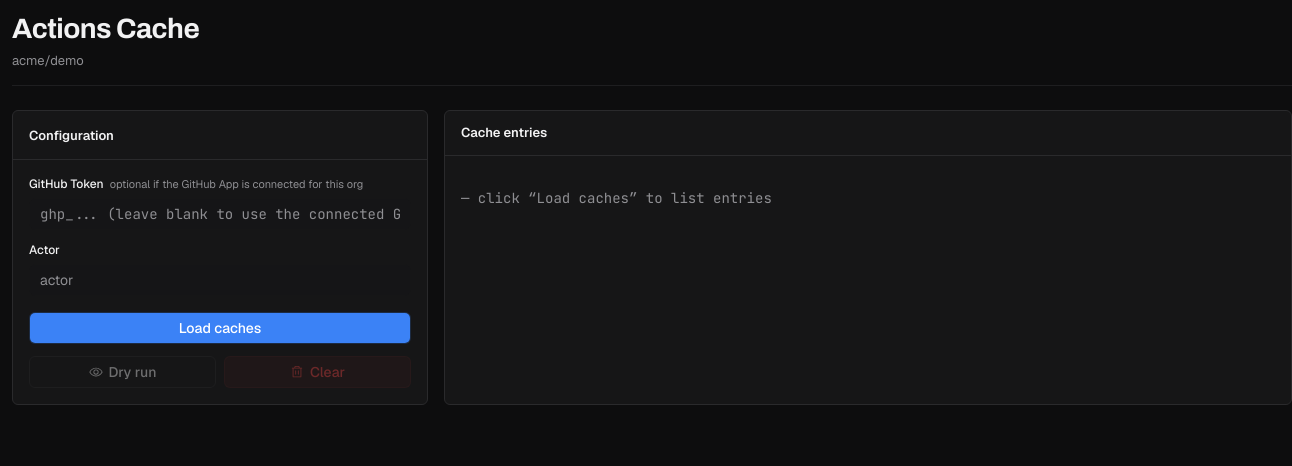
CachePage › disarms the confirm state if the actor is edited before confirming
Step 1. Type "me@example.com" into the field with placeholder "actor" → {"x": 220, "y": 280}, box [29, 264, 411, 296]
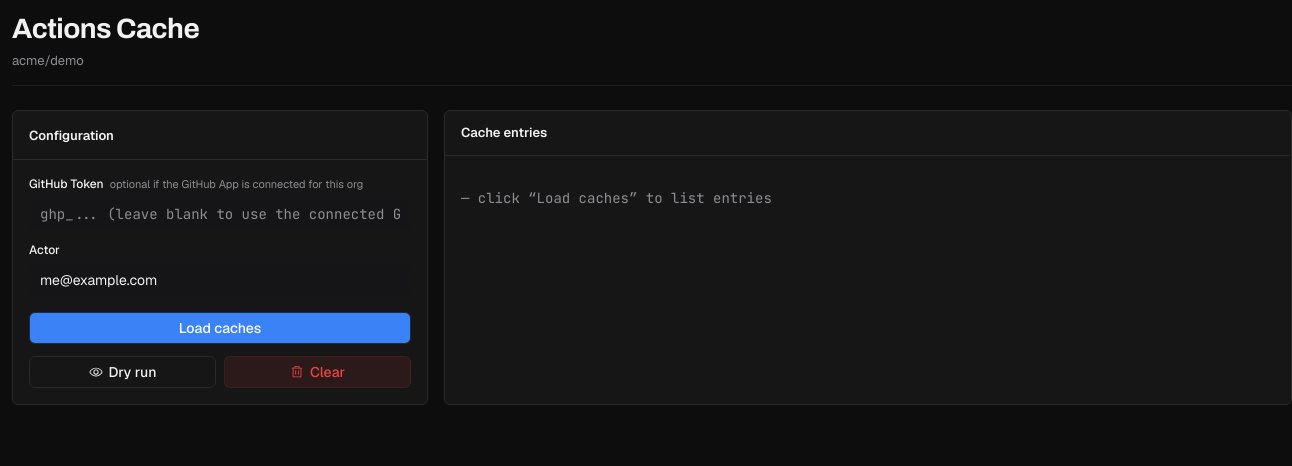
Now the button "Clear" is enabled
Step 2. Click the button "Clear" → {"x": 318, "y": 372}, box [224, 356, 411, 388]
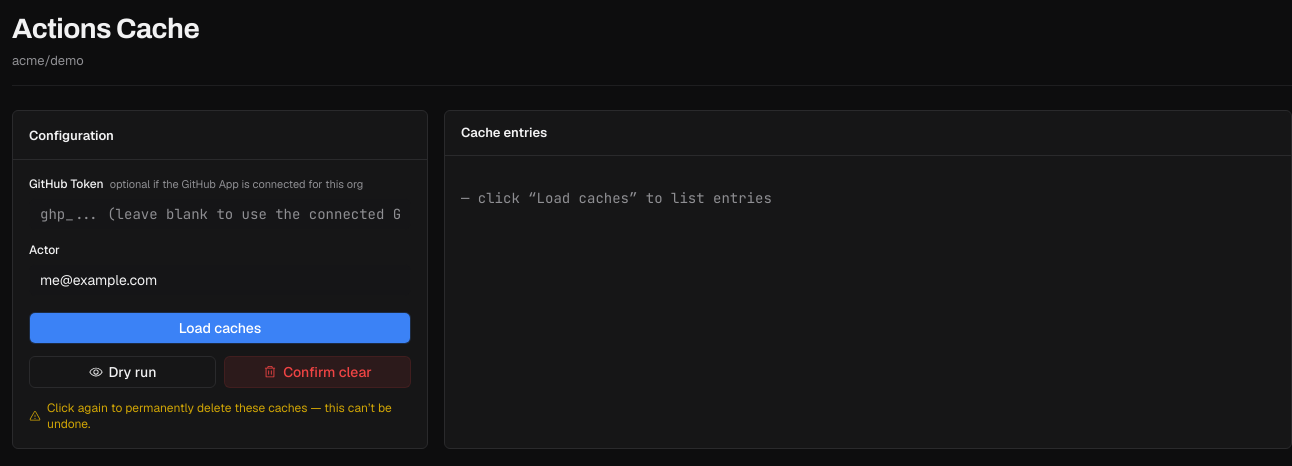
Now the button "Confirm clear" is shown, box [224, 356, 411, 388]
Step 3. Replace the text in the field with placeholder "actor" with "someone-else@example.com" → {"x": 220, "y": 280}, box [29, 264, 411, 296]
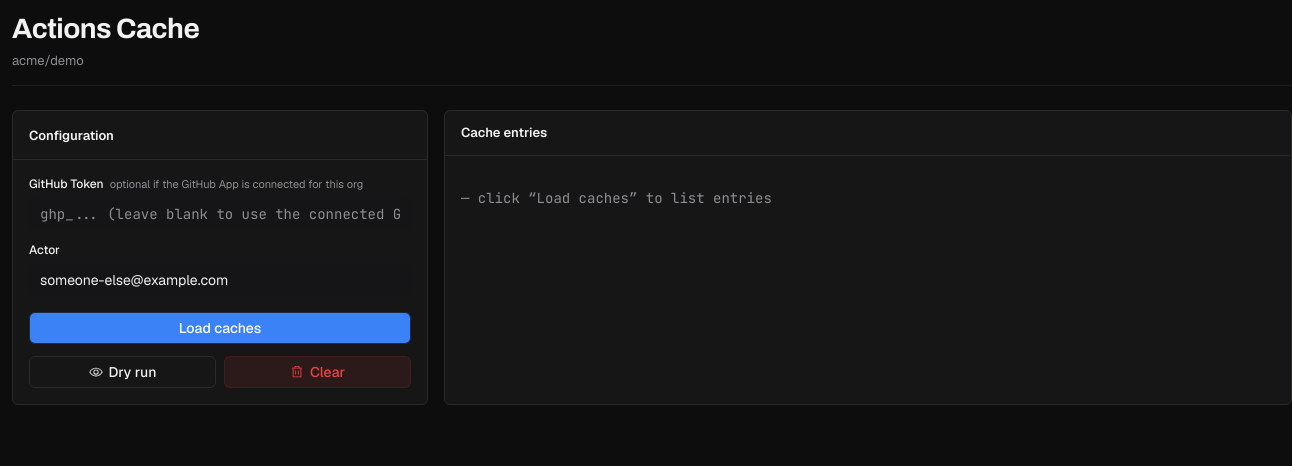
Now the button "Confirm clear" is gone
Now the button "Clear" is shown, box [224, 356, 411, 388]
